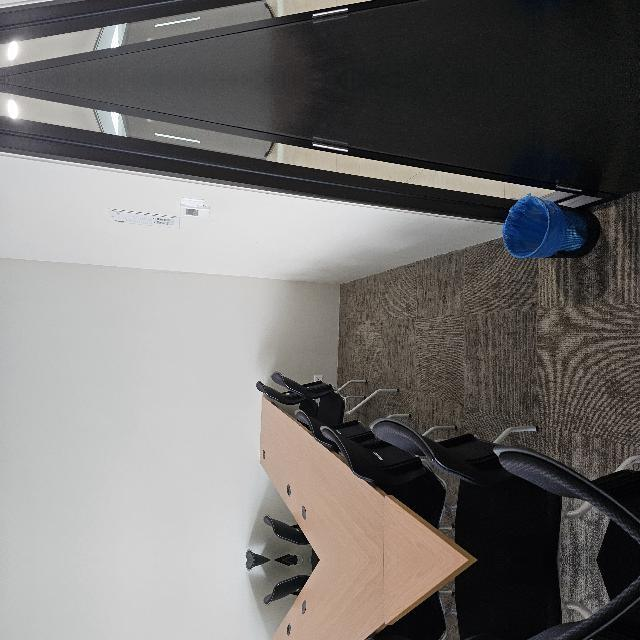obstacle: (1, 336, 168, 556), (0, 564, 167, 640), (296, 438, 368, 542), (296, 578, 367, 640)
